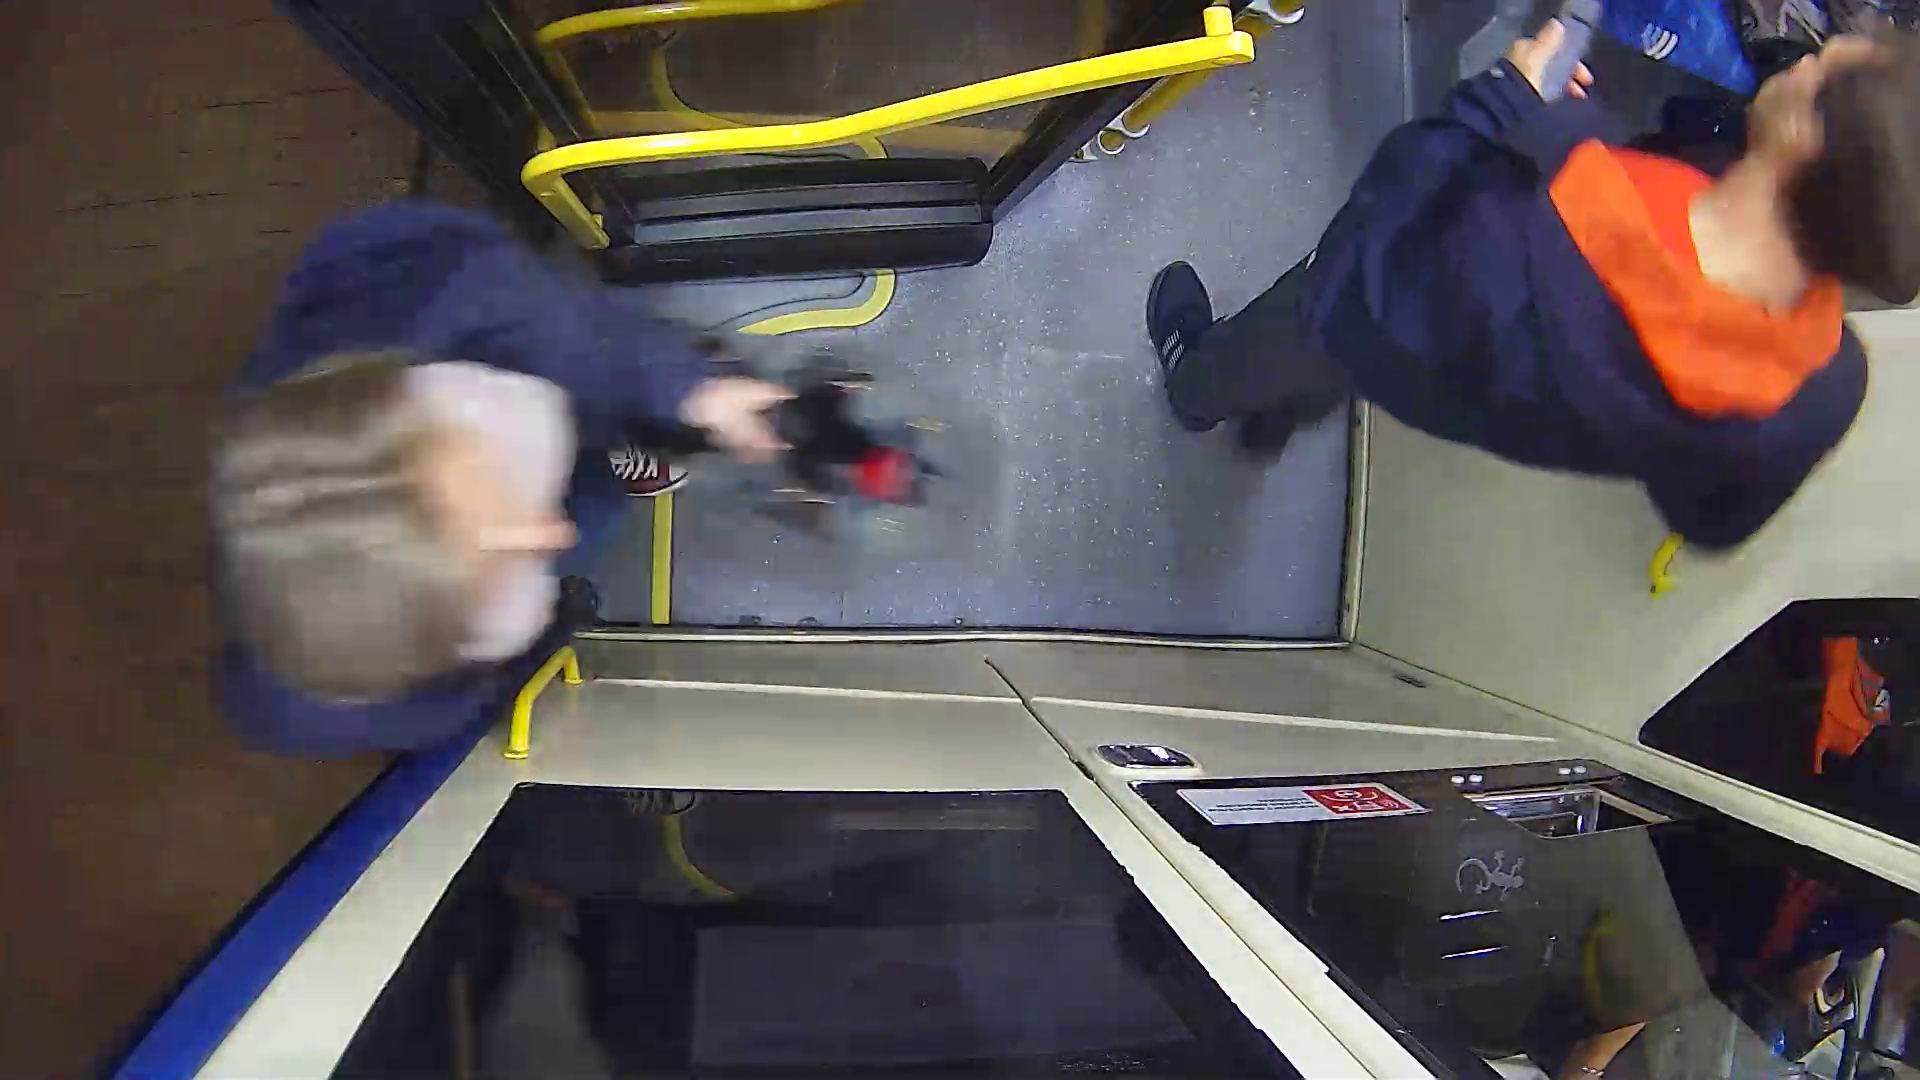person: (183, 186, 910, 760)
